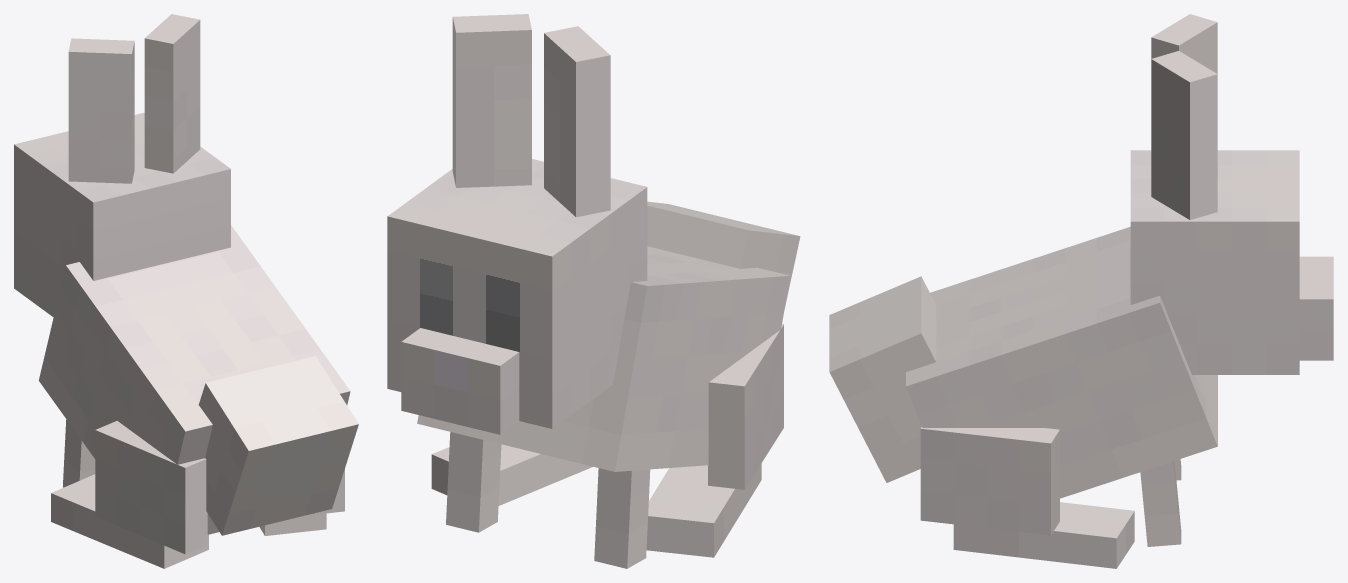
File: Rabbit_white.gltf
The picture shows the model from 3 angles, left to right: view 1: azimuth 30°, elevation 25°; view 2: azimuth 150°, elevation 25°; view 3: azimuth 270°, elevation 25°; orthographic projection. The views are drawn at different scales.
Visible parts, largest first — view 1: cube (×5), body, head, ear2, ear1; view 2: head, cube (×6), body, ear1, ear2, nose; view 3: body, head, cube (×3), tight, ear1, nose, ear2.
Boxes of the visible parts, box(x1,y1,x2,y2) form: cube (×5): box(51, 356, 358, 568); body: box(38, 225, 350, 534); head: box(14, 112, 230, 316); ear2: box(68, 38, 134, 183); ear1: box(144, 14, 200, 173); head: box(387, 159, 647, 428); cube (×6): box(431, 201, 800, 568); body: box(417, 246, 790, 471); ear1: box(452, 14, 531, 187); ear2: box(544, 26, 610, 217); nose: box(401, 328, 519, 434); body: box(906, 226, 1217, 498); head: box(1130, 150, 1299, 374); cube (×3): box(829, 276, 1181, 568); tight: box(920, 427, 1059, 535); ear1: box(1151, 51, 1217, 219); nose: box(1299, 256, 1333, 360); ear2: box(1151, 14, 1217, 73).
Size of the model in its own units: 0.5353 by 0.9375 by 0.9318.
Materials: 1 (1 with a texture image).
